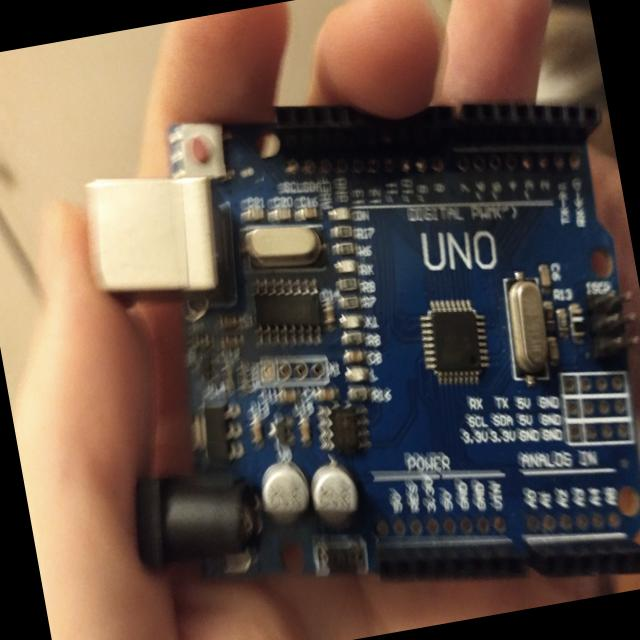arduino: (68, 45, 640, 640)
